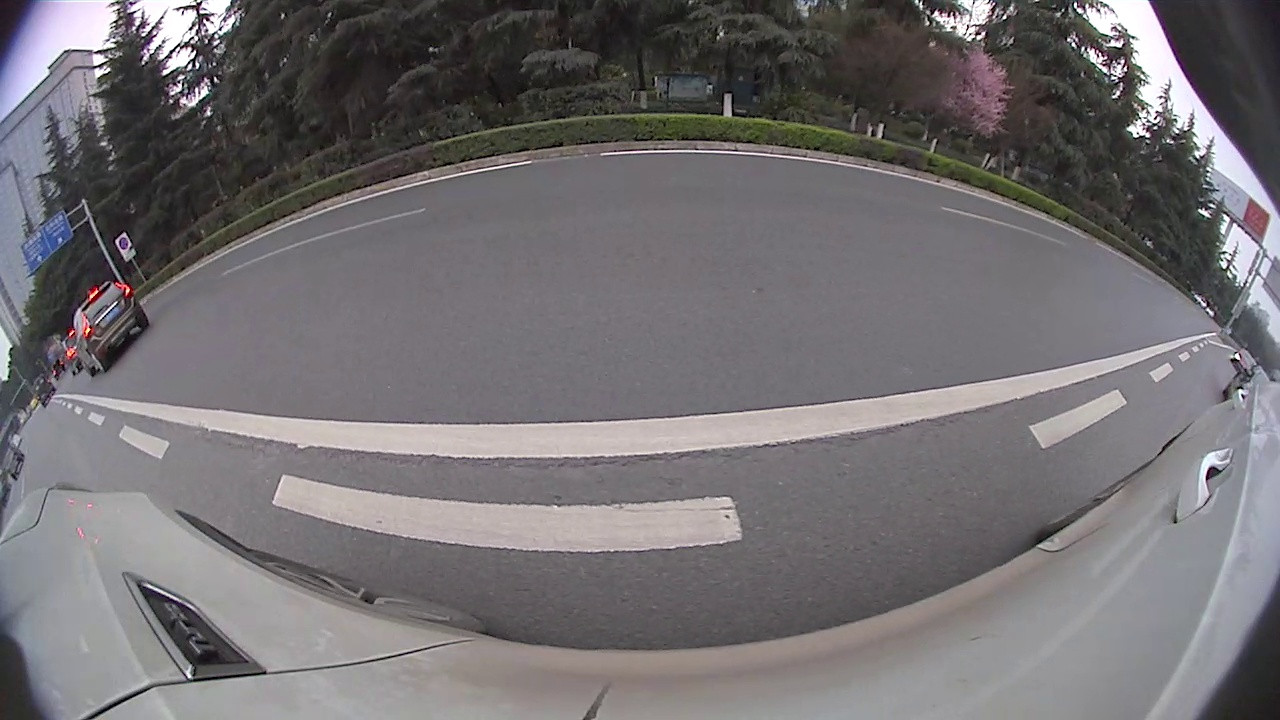car: (72, 278, 150, 378), (1221, 362, 1268, 407), (60, 330, 86, 377), (29, 374, 57, 408), (1, 444, 26, 480)
rear: (88, 351, 105, 374)
